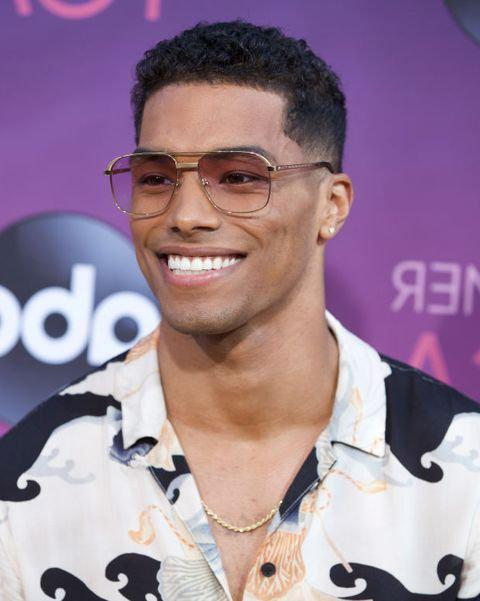Sober: (138, 89, 302, 315)
